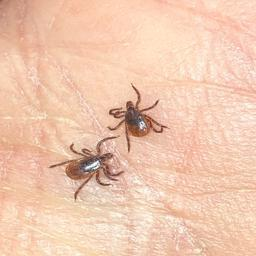Ixodes scapularis: (51, 135, 123, 202), (109, 84, 167, 151)
